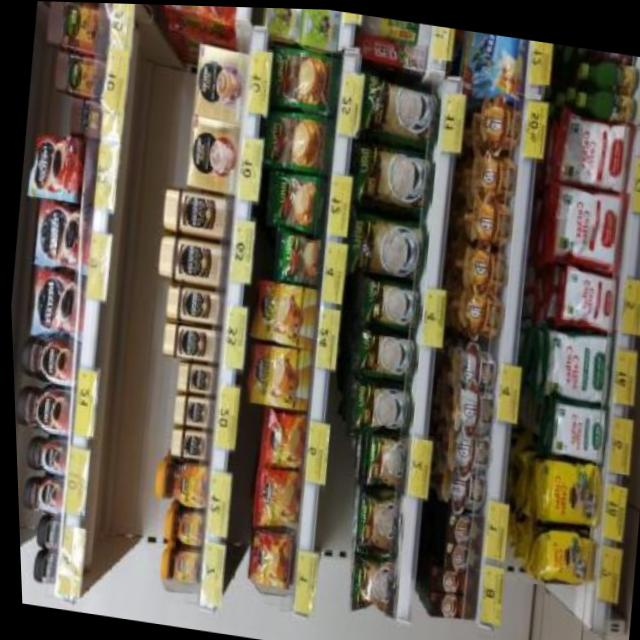Coffee: (247, 275, 316, 343), (241, 340, 312, 406), (28, 135, 99, 200), (31, 202, 92, 267), (154, 233, 230, 285), (29, 269, 86, 335), (160, 187, 233, 236), (16, 333, 80, 385), (247, 463, 299, 526), (254, 406, 306, 468), (11, 383, 75, 433), (148, 458, 208, 505), (158, 320, 219, 362), (163, 285, 225, 323), (153, 545, 198, 585), (157, 506, 200, 546), (17, 475, 60, 513), (21, 436, 65, 472), (171, 360, 215, 394), (169, 396, 211, 427), (166, 427, 208, 458), (26, 550, 55, 588), (30, 515, 59, 551)
